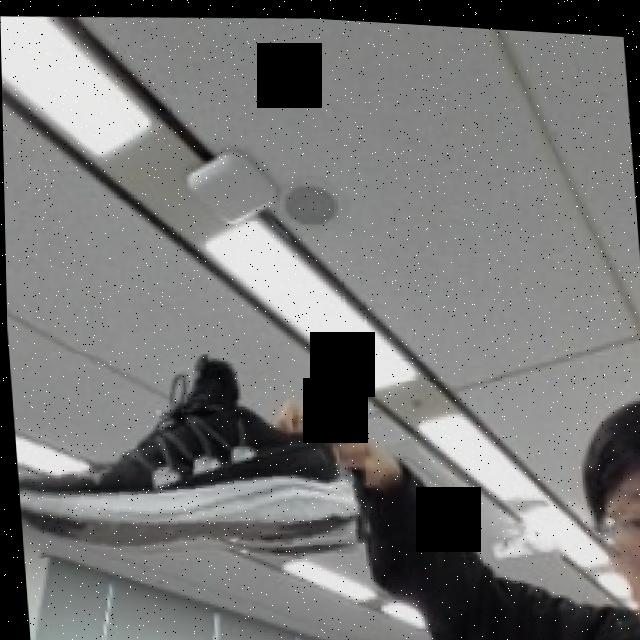shoe: (7, 335, 376, 576)
